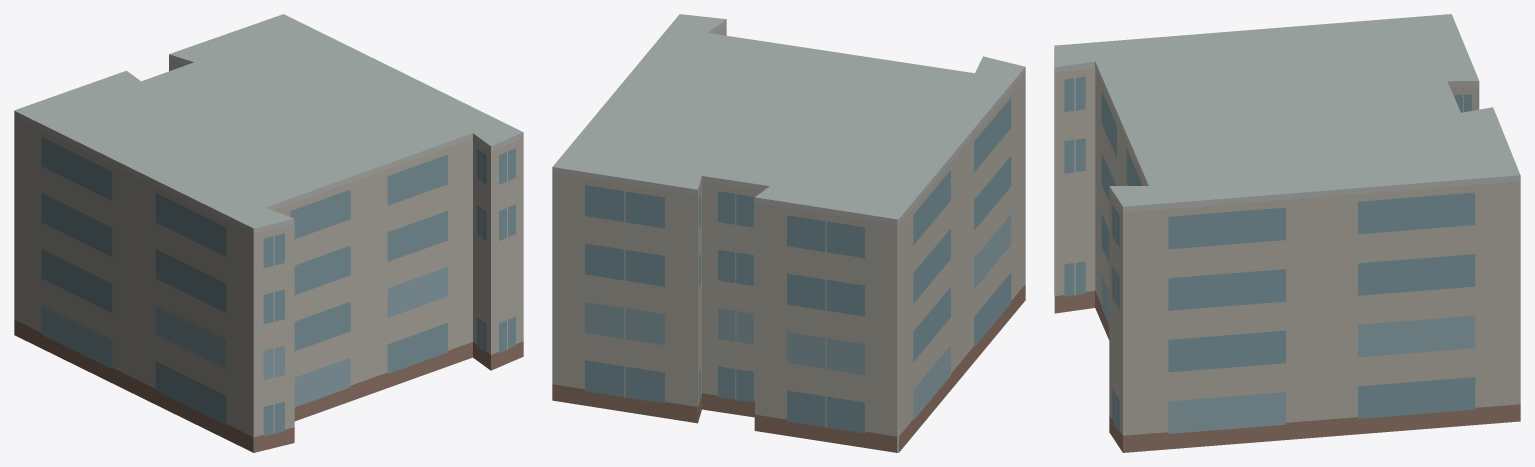
File: survey-upis-32753020.glb
The picture shows the model from 3 angles, left to right: view 1: azimuth 30°, elevation 25°; view 2: azimuth 150°, elevation 25°; view 3: azimuth 270°, elevation 25°; orthographic projection. The views are drawn at different scales.
Visible parts, largest first — view 1: survey-upis-32753020.tmp; view 2: survey-upis-32753020.tmp; view 3: survey-upis-32753020.tmp.
Boxes of the visible parts, left/top/right/bottom form: survey-upis-32753020.tmp: left=14, top=14, right=523, bottom=452; survey-upis-32753020.tmp: left=552, top=14, right=1025, bottom=452; survey-upis-32753020.tmp: left=1054, top=14, right=1520, bottom=452.
Size of the model in its own units: 17.13 by 10.2 by 17.52.
